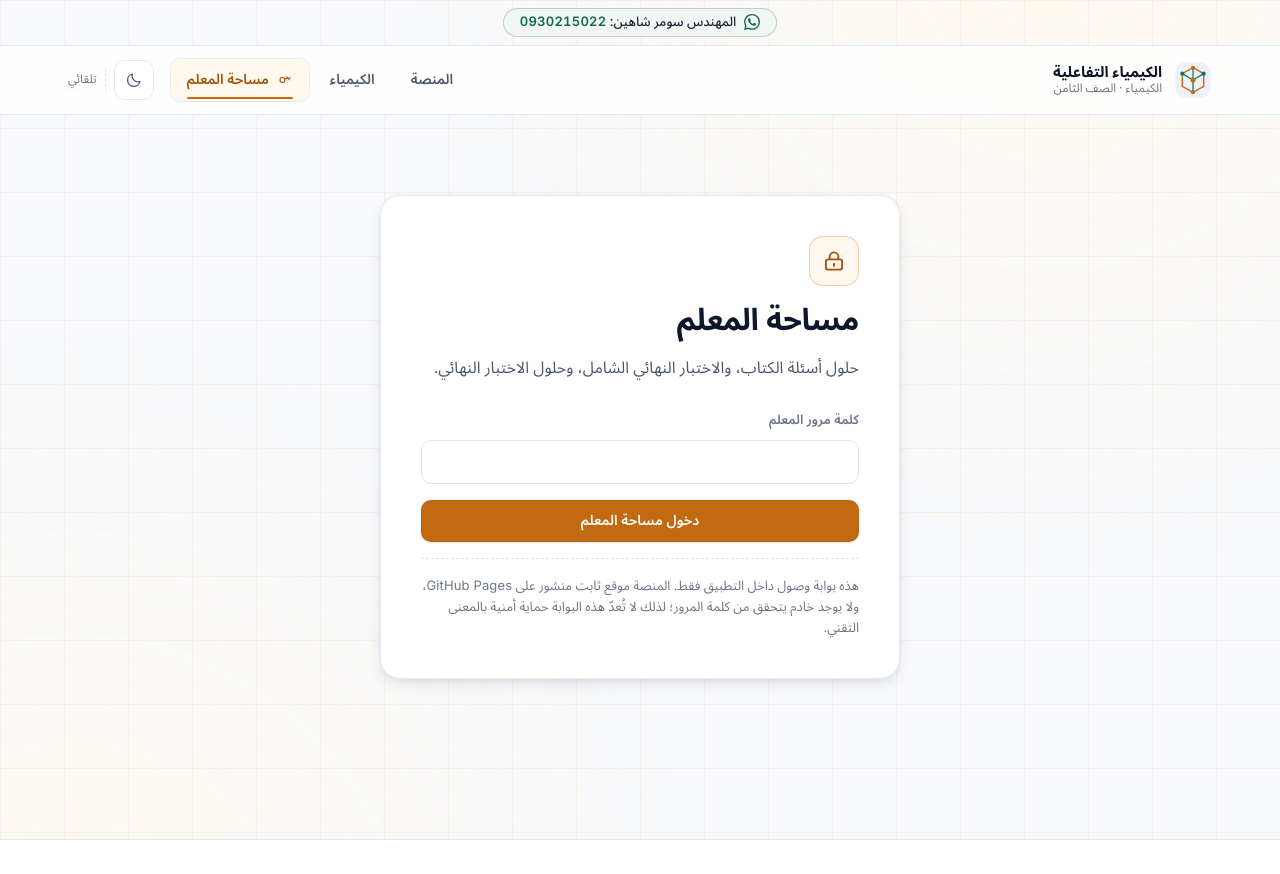
Scenario: teacher area routes › shows the lesson-specific book solutions after access
The width and height of the screenshot is (1280, 874).
Type "somer173" into the password field labelled "كلمة مرور المعلم".
click(640, 462); type("somer173")  # box [421, 440, 859, 484]
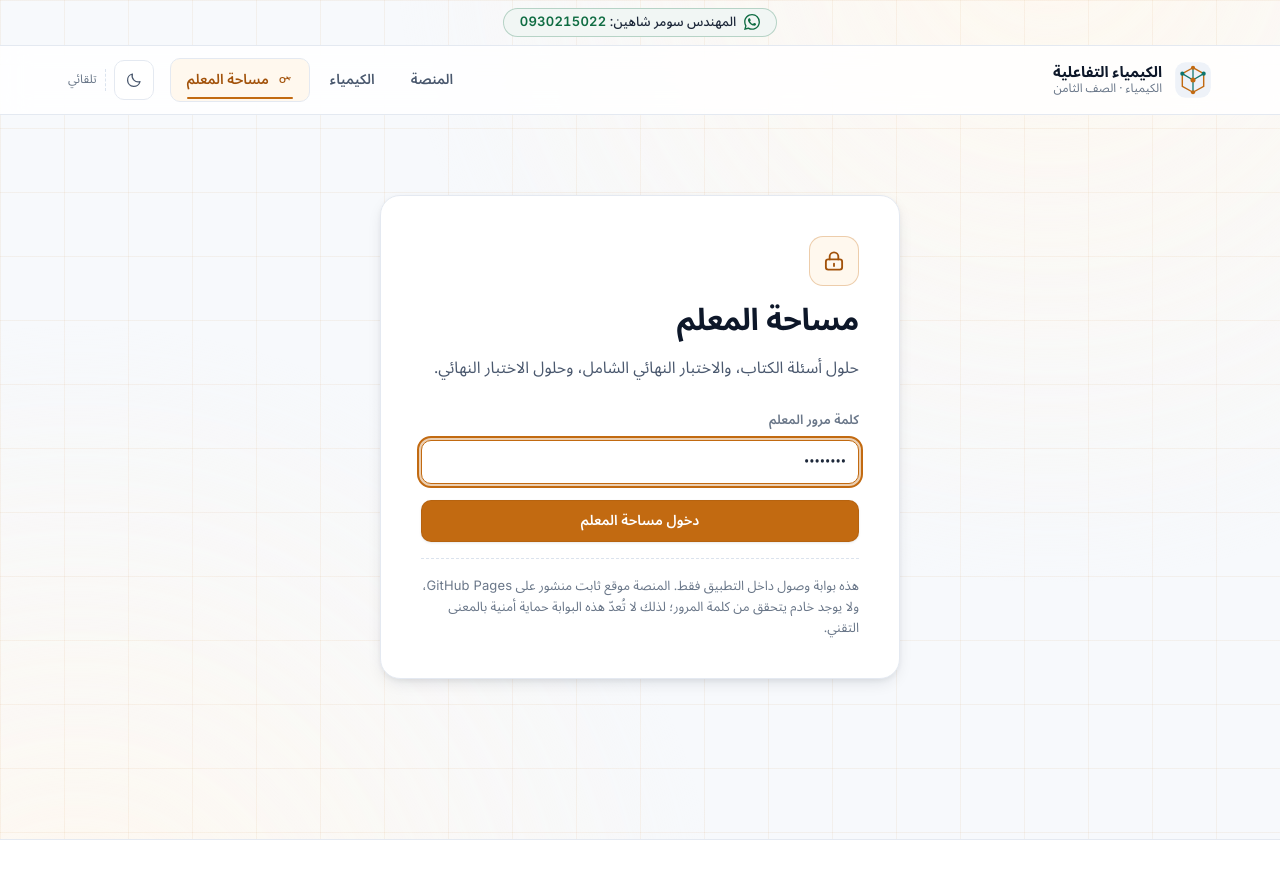
Click the button "دخول مساحة المعلم".
click(640, 521)  # box [421, 500, 859, 542]
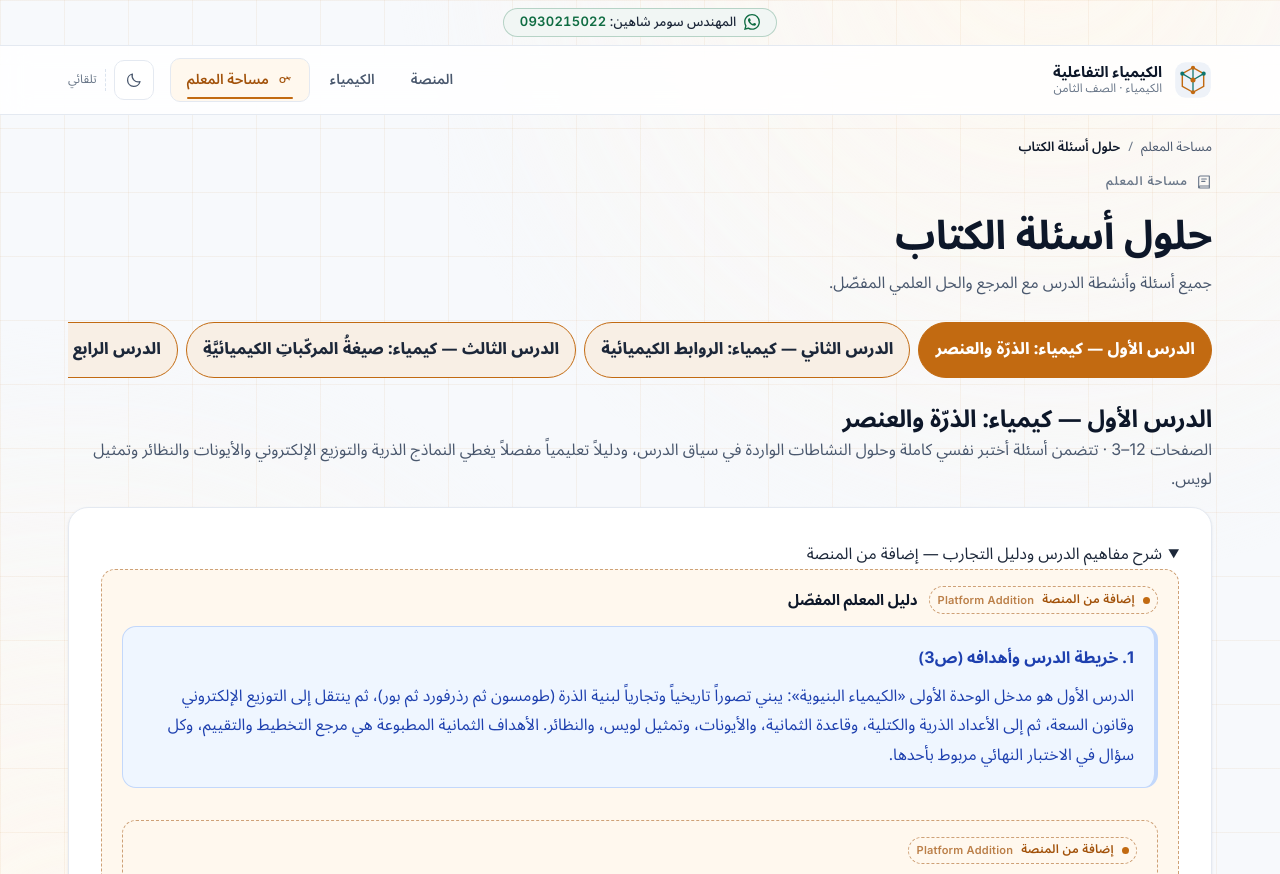
expect the heading "حلول أسئلة الكتاب" is shown: met, box [895, 194, 1212, 279]
expect the link "الدرس الأول — كيمياء: الذرّة والعنصر" is shown: met, box [918, 322, 1212, 378]
